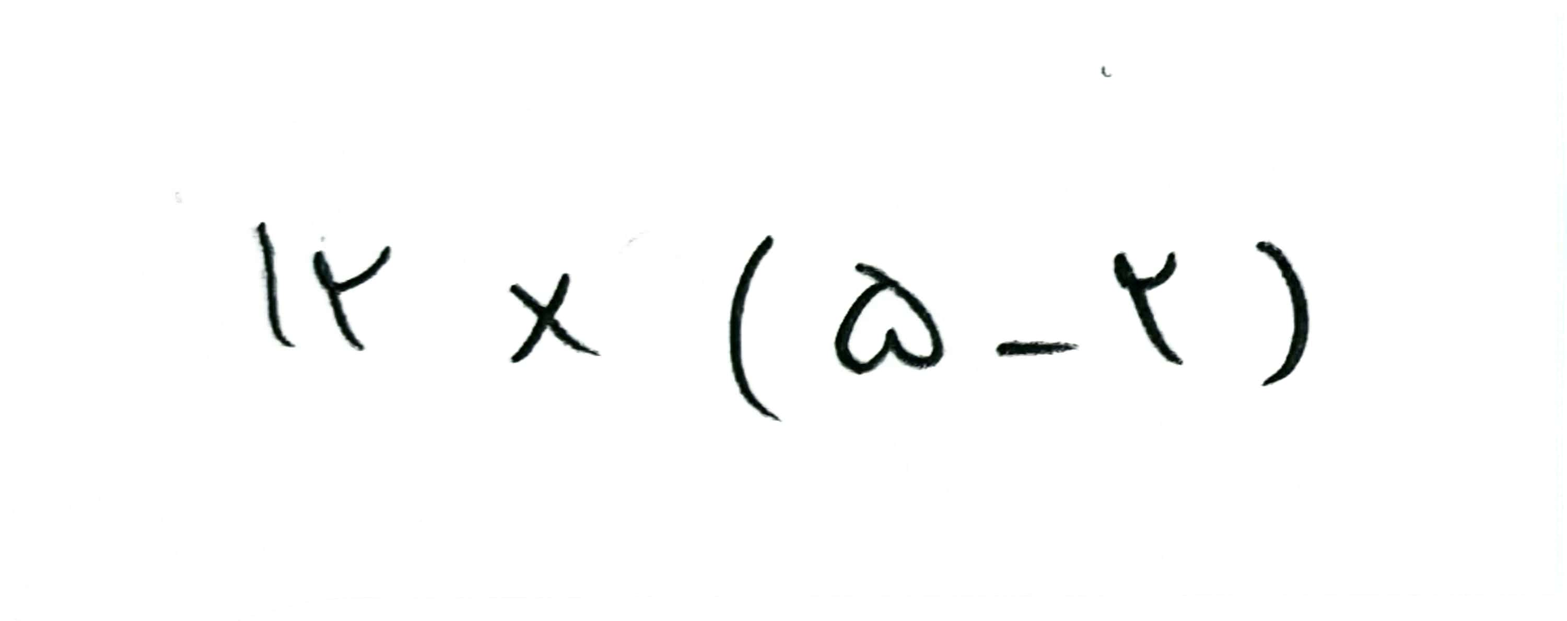character: (835, 263, 944, 375), (728, 234, 782, 425), (311, 246, 393, 351), (1254, 239, 1309, 388), (511, 273, 599, 365), (1113, 253, 1184, 366), (253, 221, 296, 351), (994, 341, 1078, 356)
